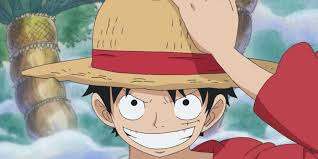luffy: (22, 1, 318, 159)
